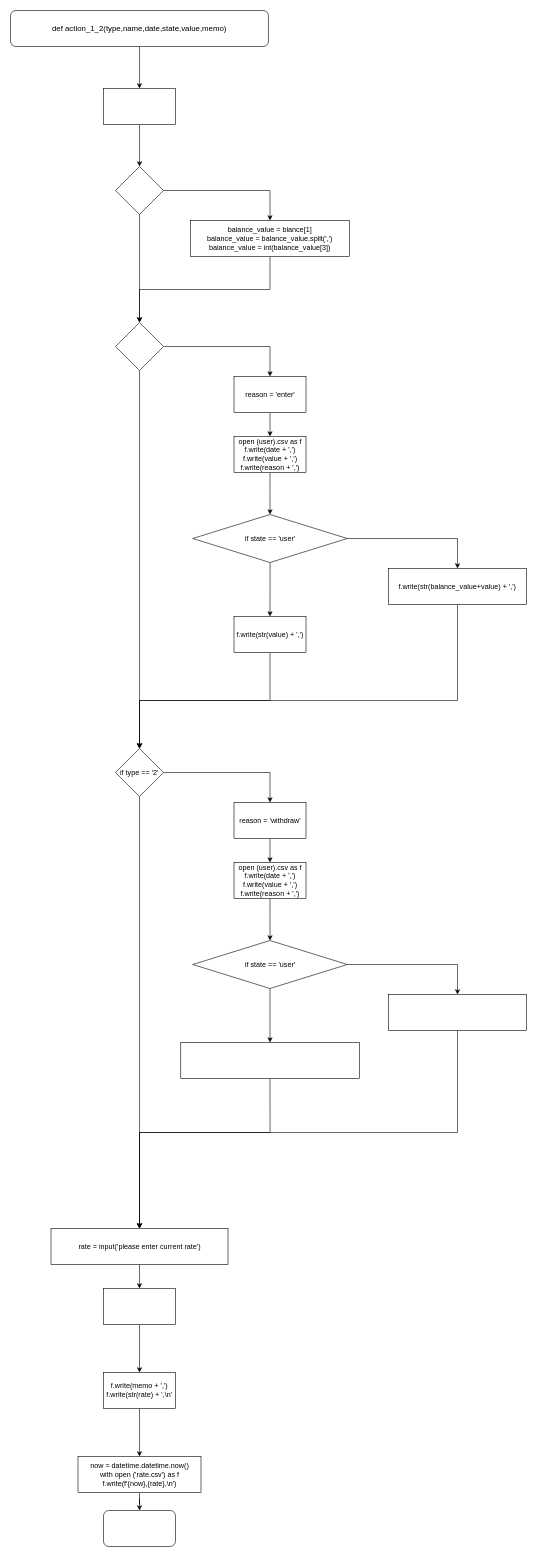
Some shapes in this 537 by 1557 pixel diagram are drawn without their labels. Each missing label, with the box of its shape:
f.write(str(balance_value-value) + ','): (388, 994, 526, 1030)
if len(f) > 1: (115, 166, 164, 214)
if type == '1': (115, 322, 164, 370)
open (user).csv as f balance = f.readlines: (103, 88, 176, 124)
print('You have no currency in your account'): (180, 1042, 359, 1078)
return: (103, 1510, 176, 1546)
with open(name).csv as f: (103, 1288, 176, 1324)
